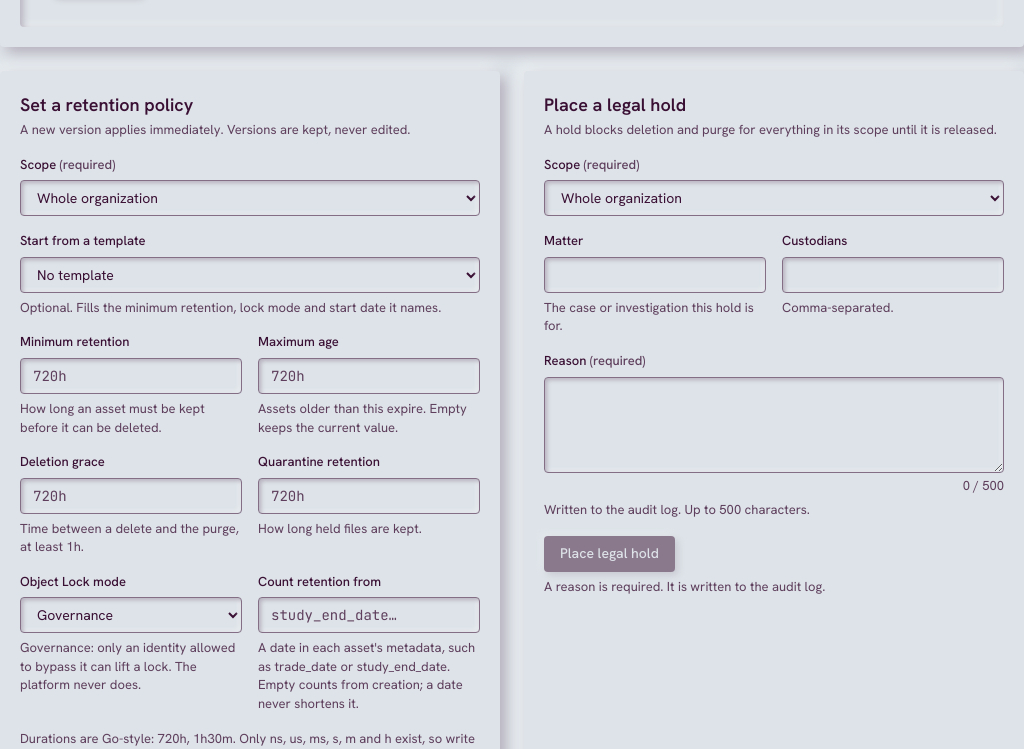
RetentionScreen › flags day units after the field is left and keeps submit disabled with a reason
(page scrolled)
In the field labelled "Minimum retention": [131, 376] box [20,358,242,394], type "30d"
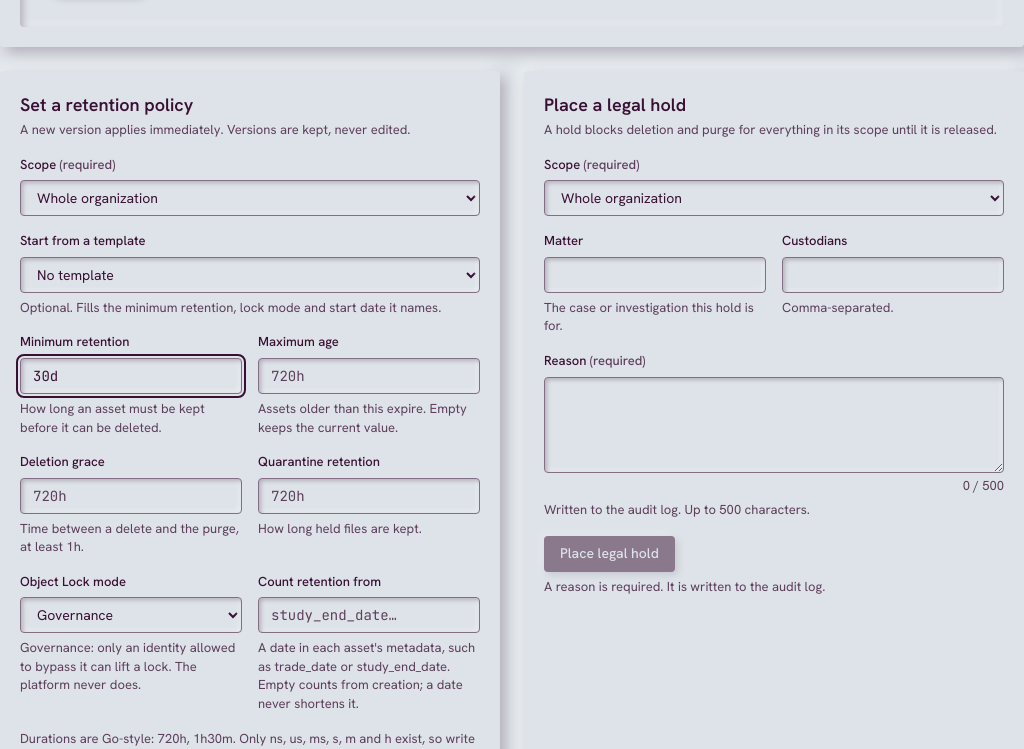
Press Tab
(page scrolled)
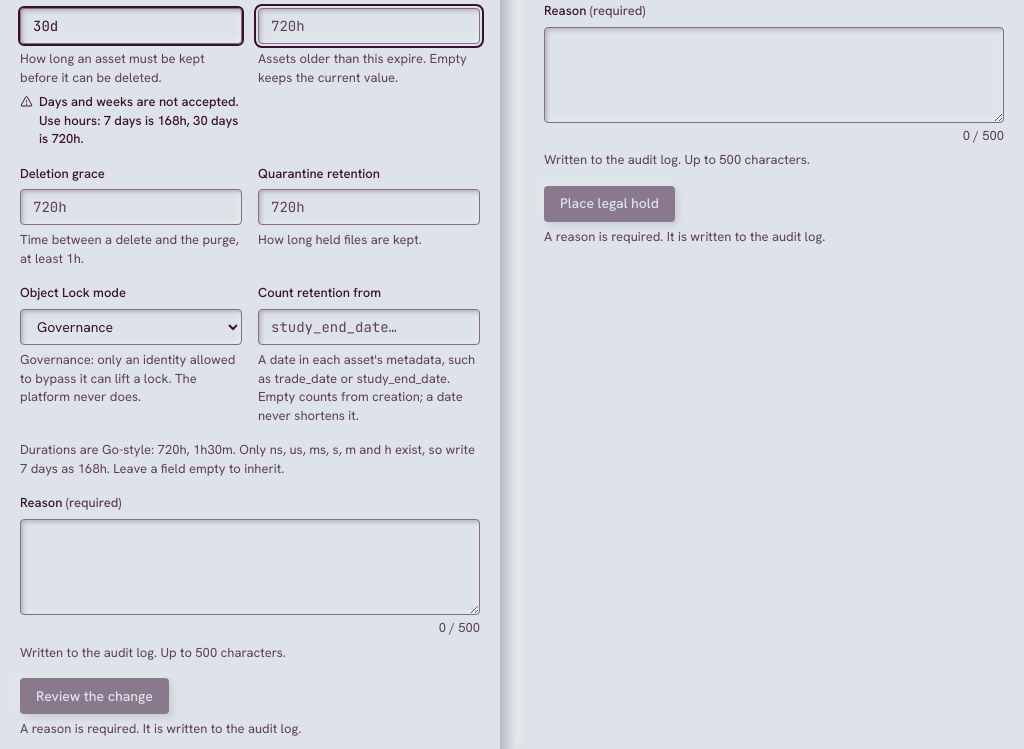
Expected: the button "Review the change" is disabled, [20,678,169,714]
Now the text "Days and weeks are not accepted. Use hours: 7 days is 168h, 30 days is 720h." is shown, box [20,93,242,149]
